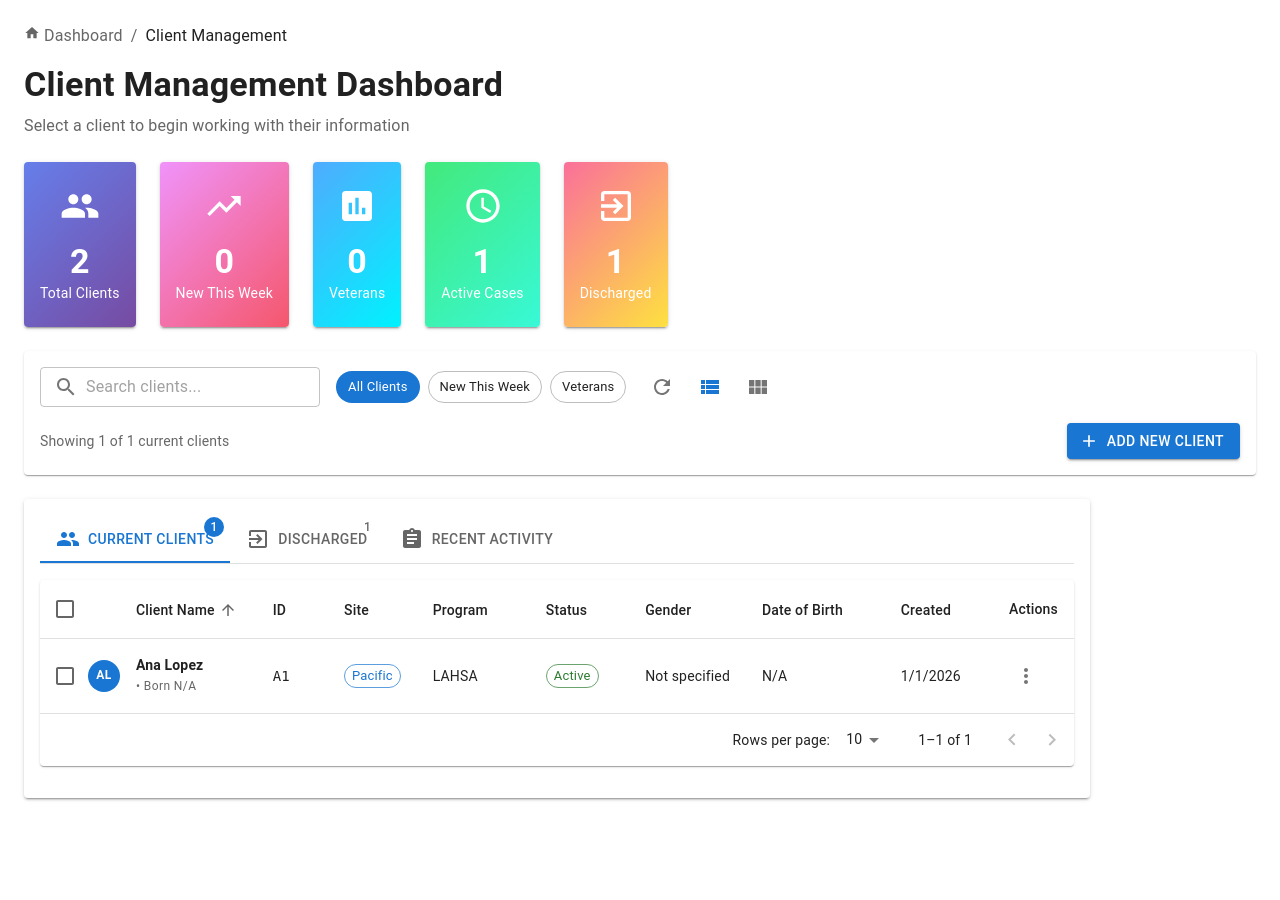
Test: Dashboard tabs › lists current clients first and discharged clients on their own tab
Expected: the text "Ana Lopez" is shown, [136, 657, 203, 673]
Expected: the text "Dee Moss" is not shown
Click the tab "Discharged 1" at (307, 540), box [230, 516, 384, 564]
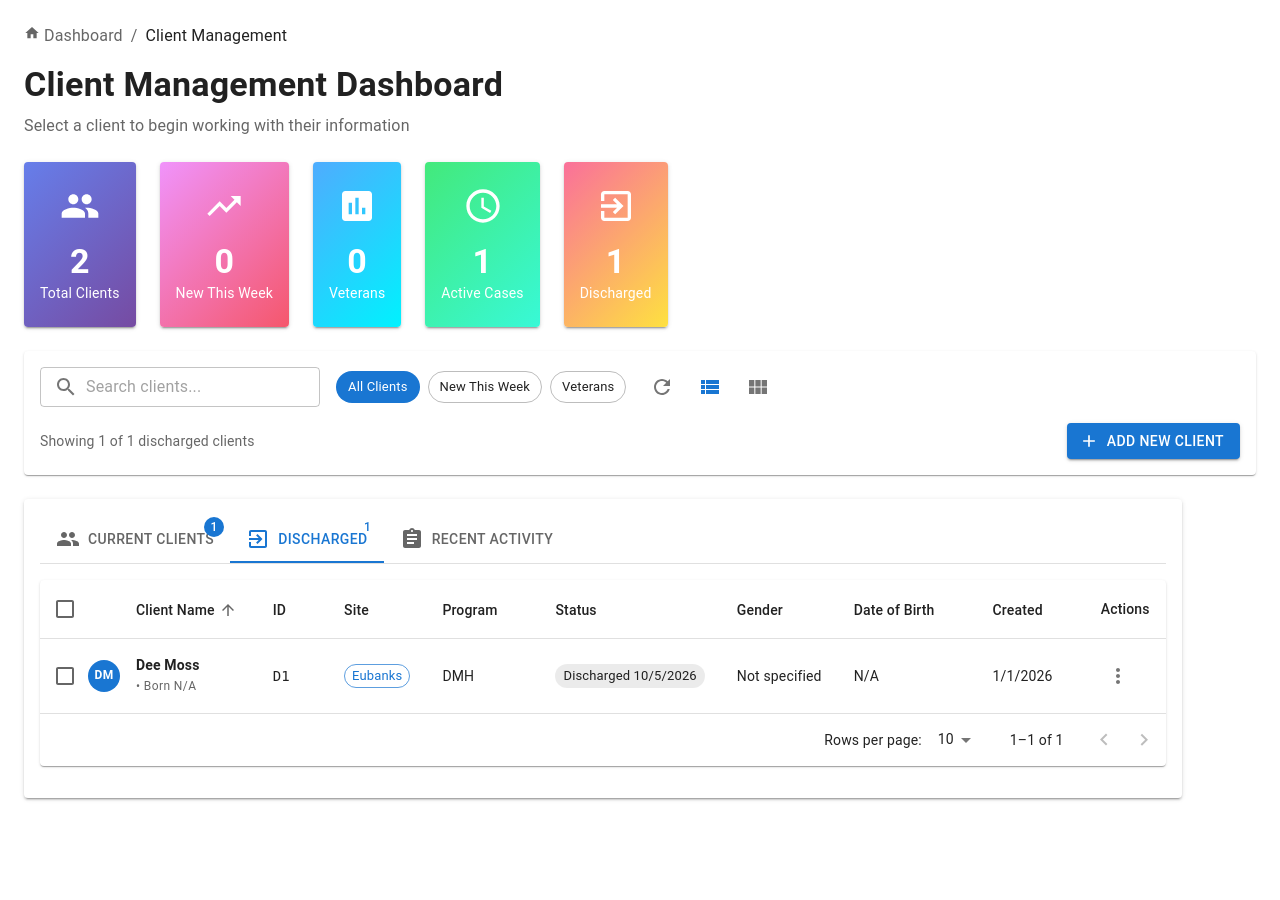
Expected: the text "Dee Moss" is shown, [136, 657, 200, 673]
Expected: the checkbox "Ana Lopez" is gone
Expected: the text "Showing 1 of 1 discharged clients" is shown, [40, 431, 255, 451]
